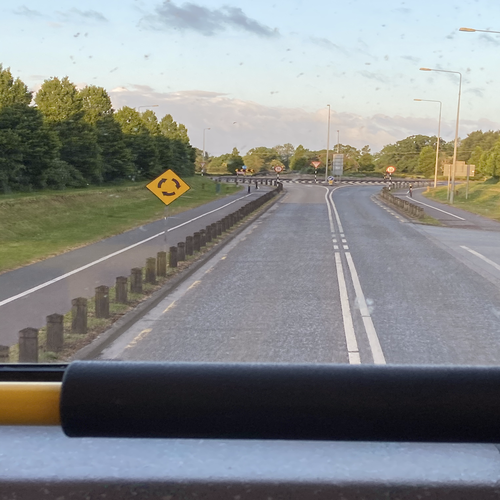Roadabout: (145, 167, 189, 204)
